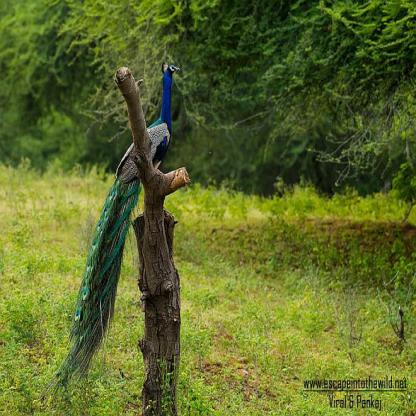Burung: (38, 62, 179, 412)
